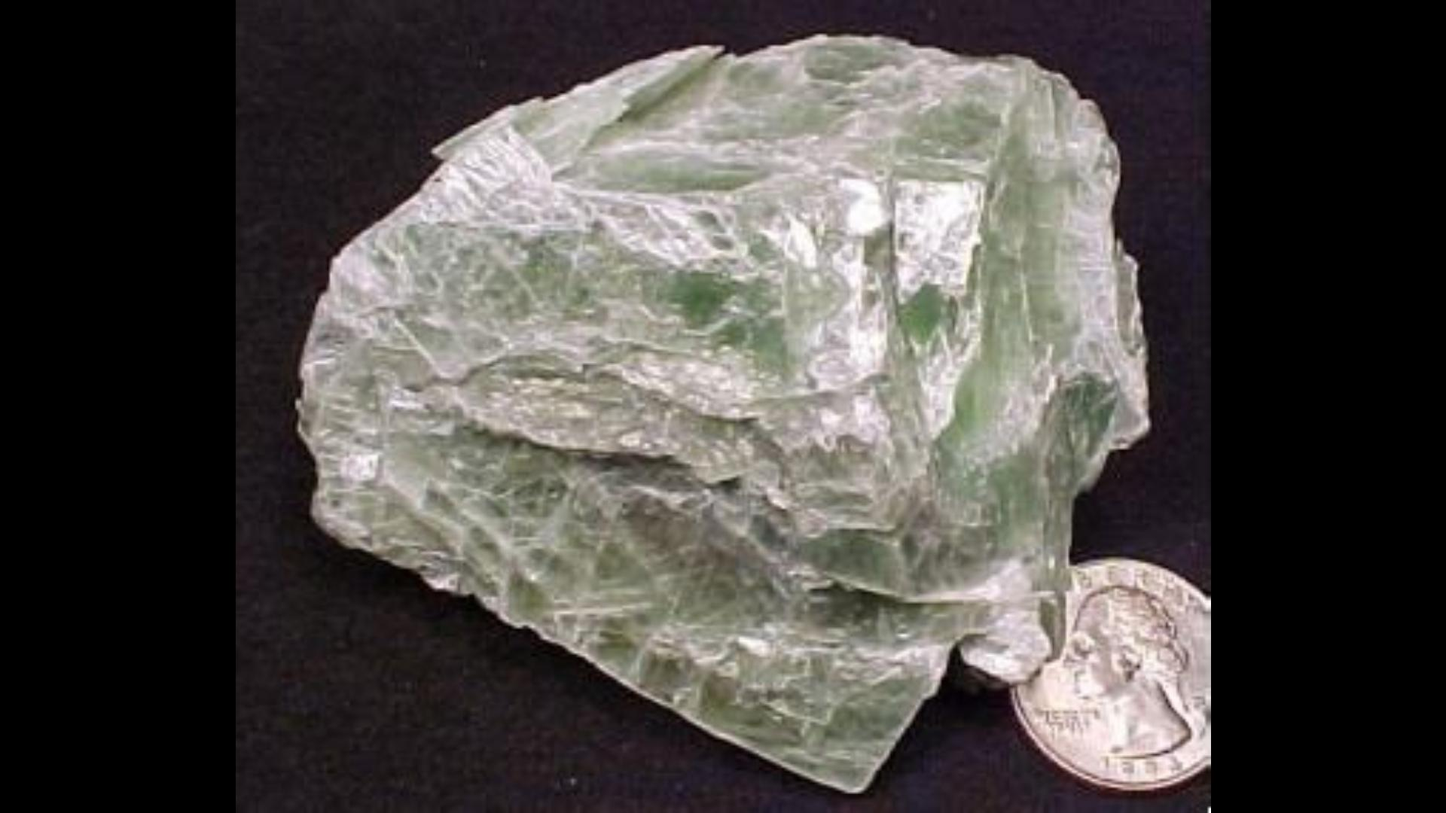rock: (298, 37, 1145, 790)
